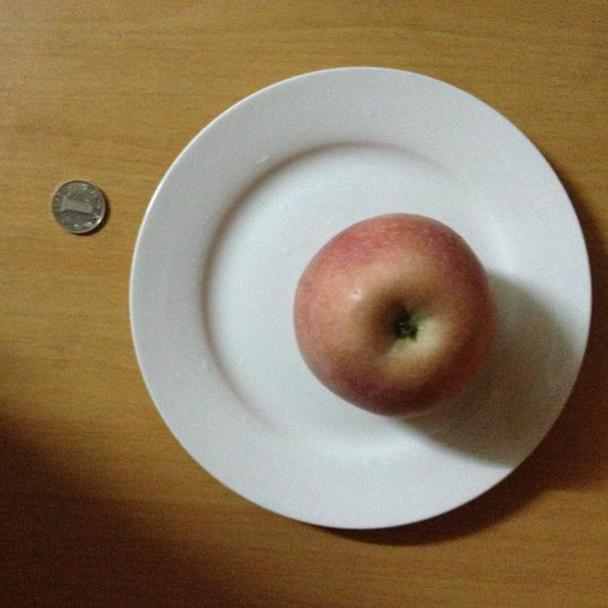apple: (292, 211, 499, 421)
